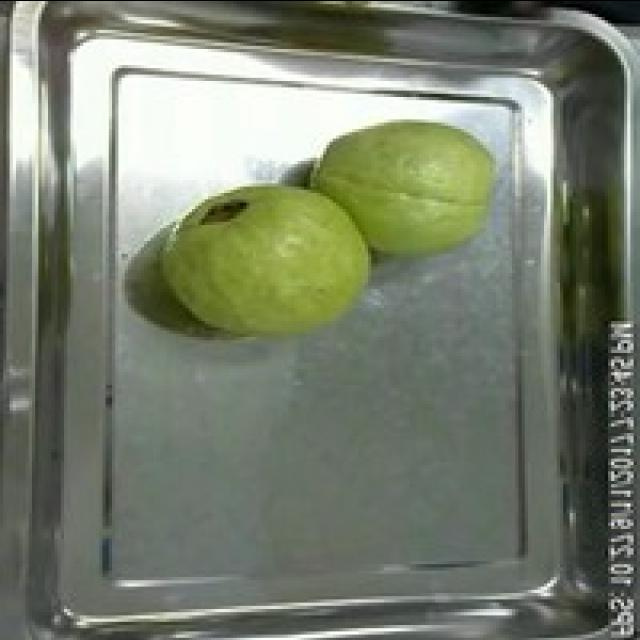Fruit: (154, 166, 384, 352), (301, 102, 509, 272)
